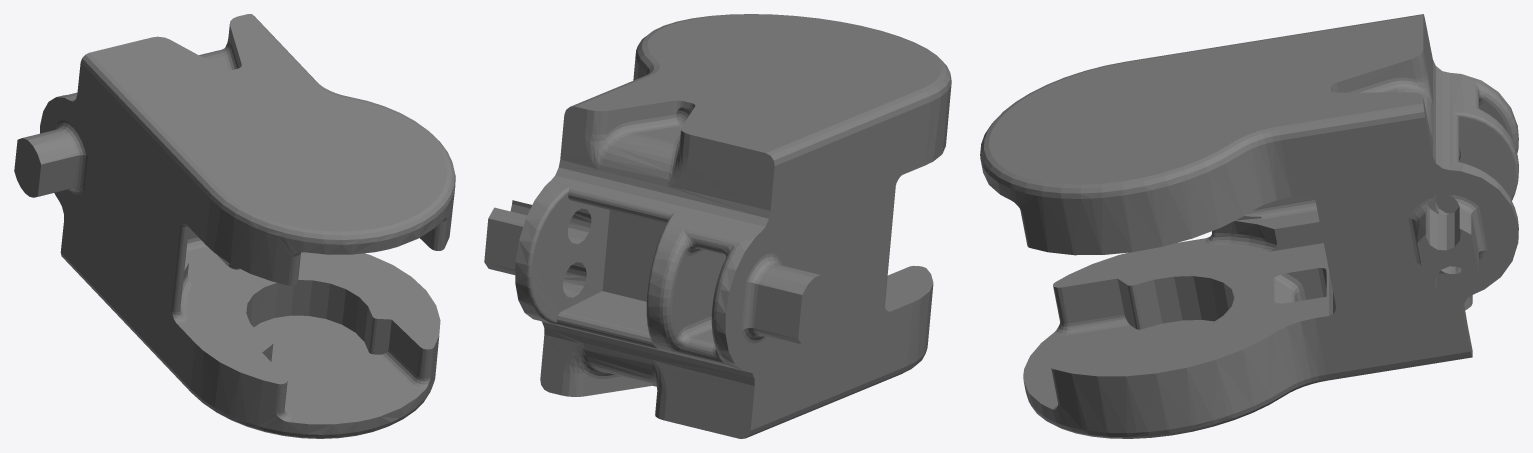
The model's file is rh_pinky_metacarpals_vis.obj.
The picture shows the model from 3 angles, left to right: view 1: azimuth 30°, elevation 25°; view 2: azimuth 150°, elevation 25°; view 3: azimuth 270°, elevation 25°; orthographic projection. The views are drawn at different scales.
Visible parts, largest first — view 1: rh_pinky_metacarpals; view 2: rh_pinky_metacarpals; view 3: rh_pinky_metacarpals.
Boxes of the visible parts, x1,y1,x2,y2 form: rh_pinky_metacarpals: (14, 14, 455, 438); rh_pinky_metacarpals: (484, 14, 951, 438); rh_pinky_metacarpals: (980, 14, 1518, 438).
Size of the model in its own units: 0.0202 by 0.0201 by 0.0304.
1 material, 1 textured.
